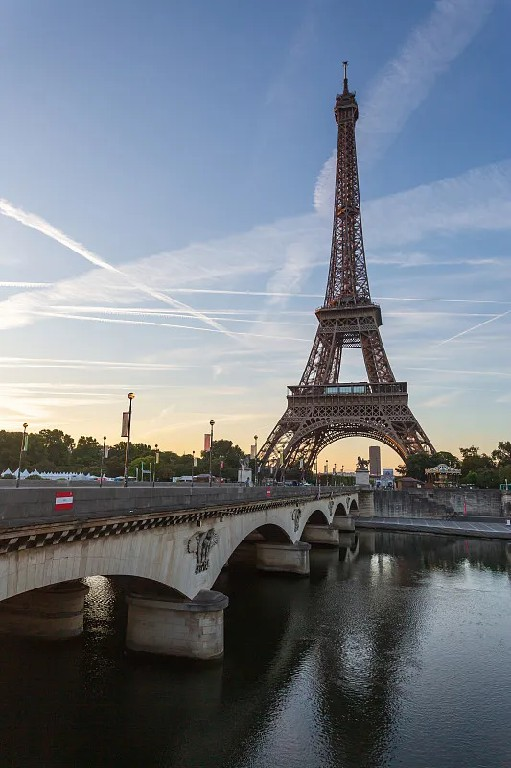Eiffel: (254, 60, 435, 474)
